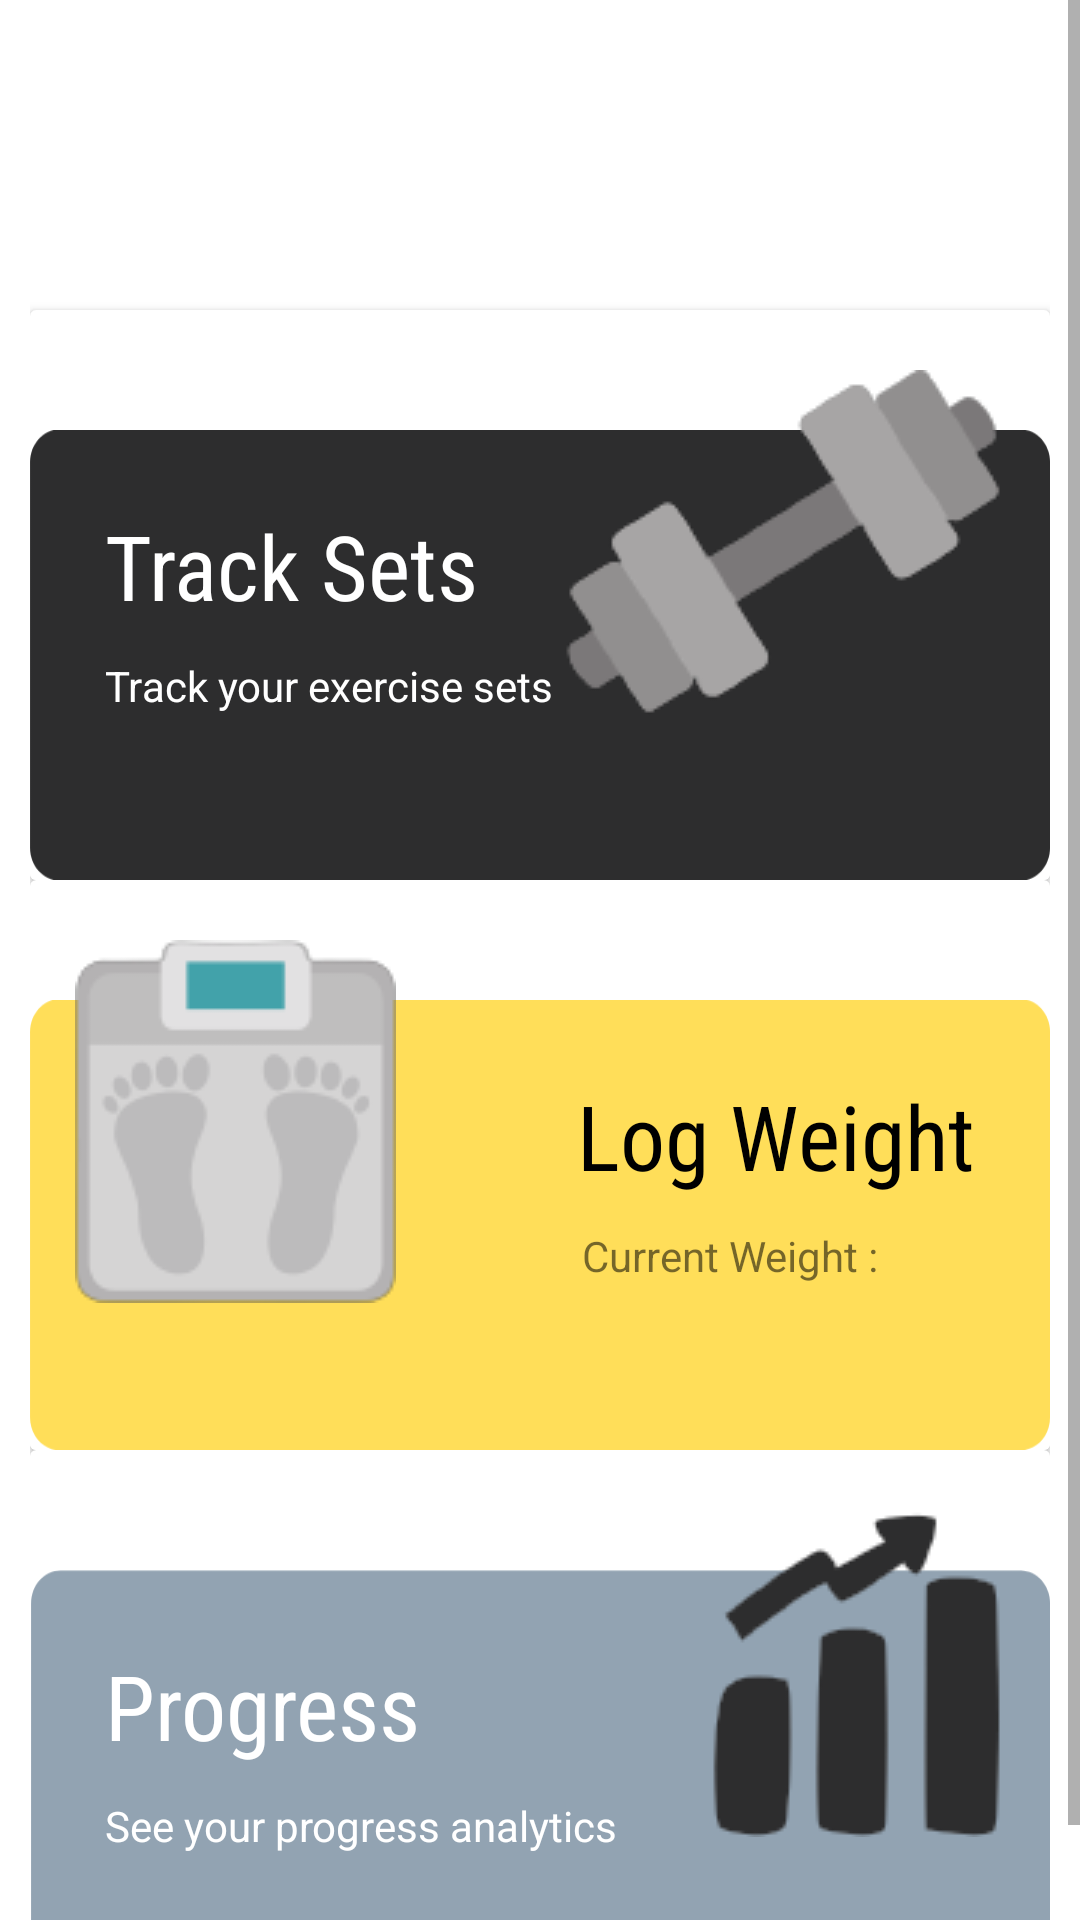

Named icons in this screenshot (1080px x 1920px) and their bounding boxes, detection(x1, y1, x2, y2):
progress dashboard: detection(713, 1576, 1000, 1837)
